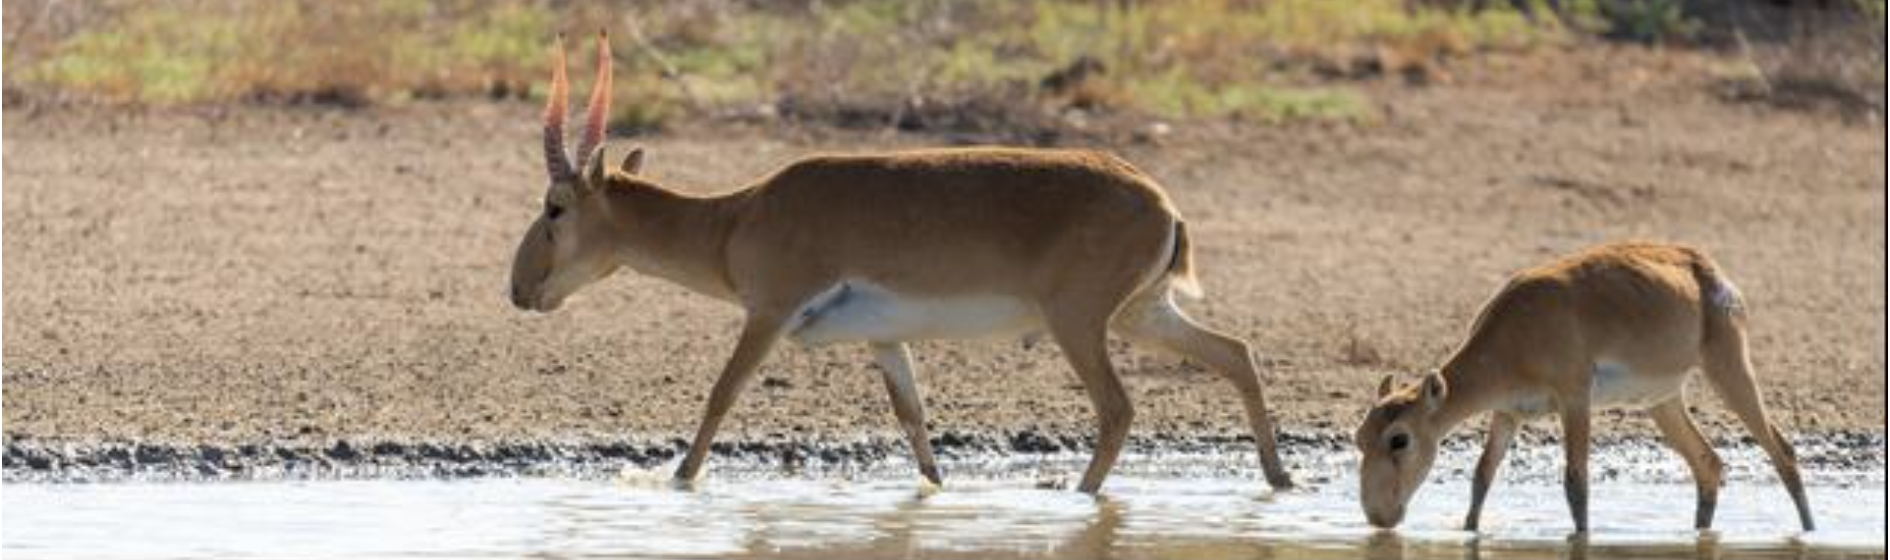saiga: (481, 30, 1313, 526), (1369, 189, 1830, 546)
